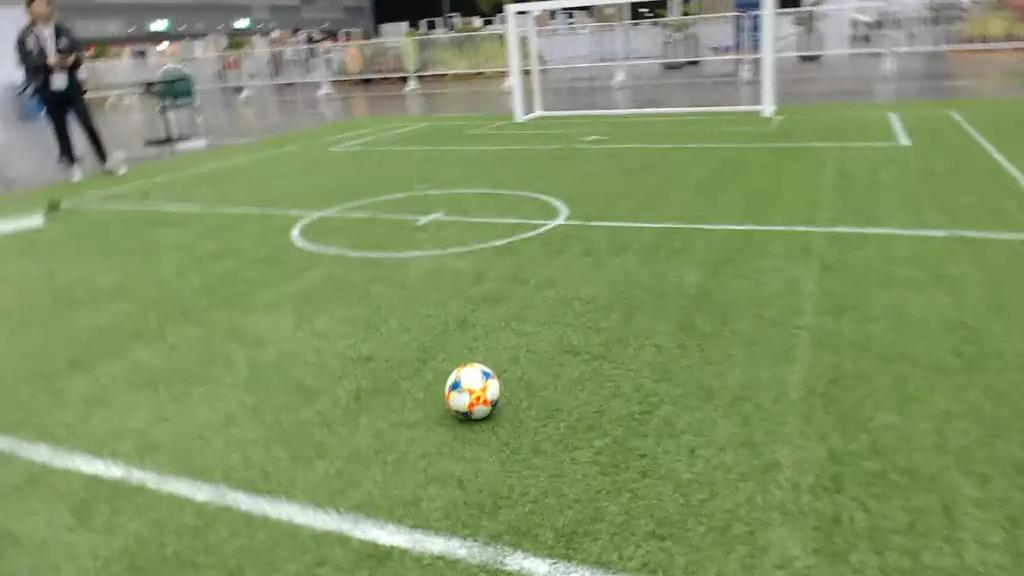ball: (444, 362, 500, 423)
